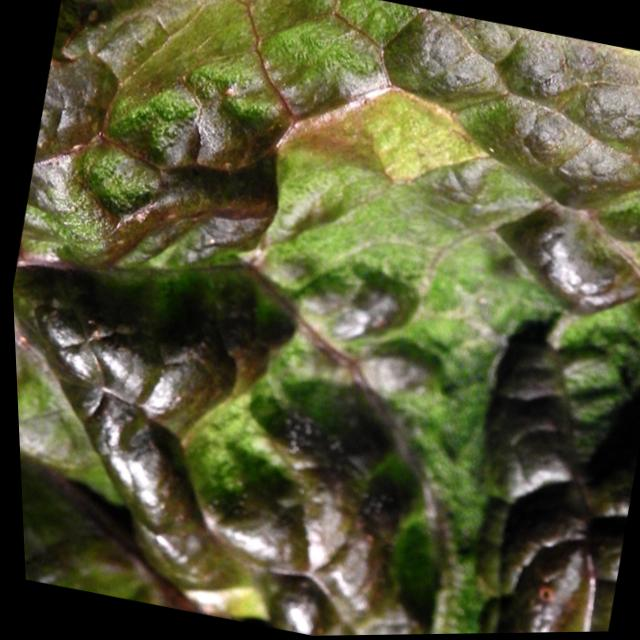Bad: (23, 0, 638, 635)
